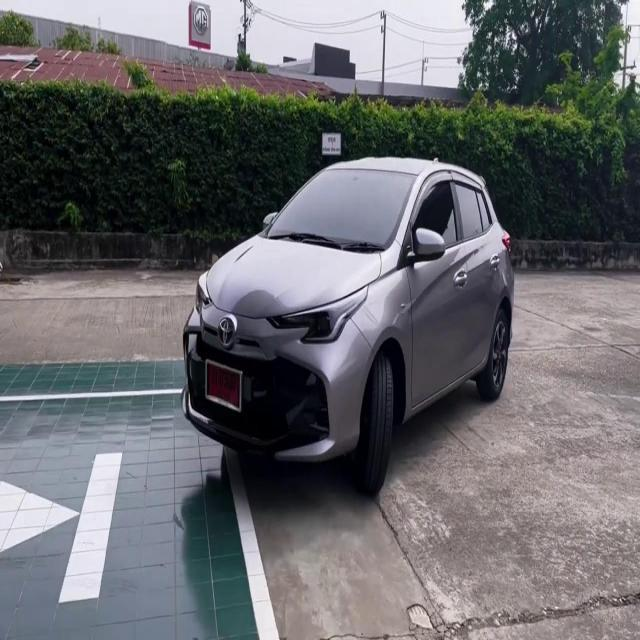Hatchback: (182, 157, 514, 495)
